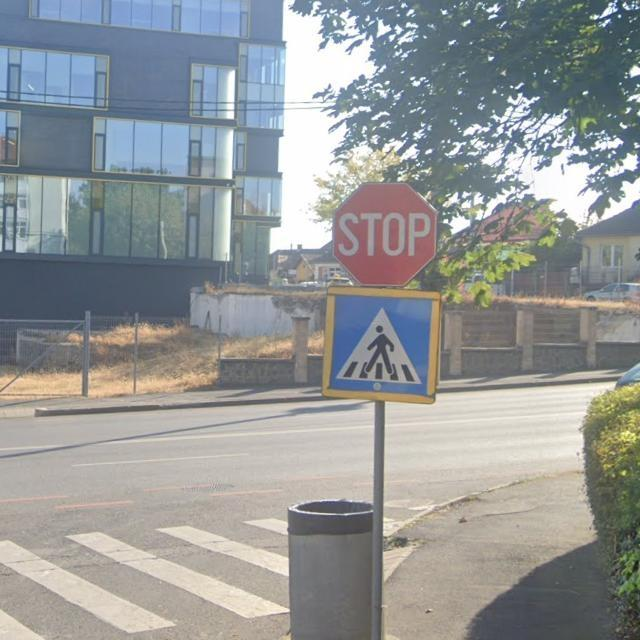info_crosswalk: (321, 284, 440, 404)
prio_stop: (332, 183, 439, 289)
